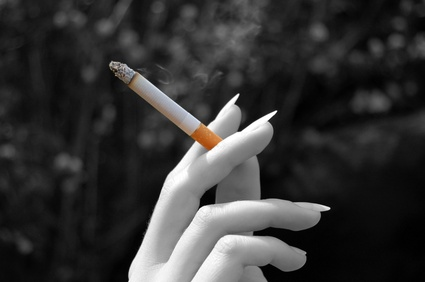cigarette: (108, 59, 231, 149)
